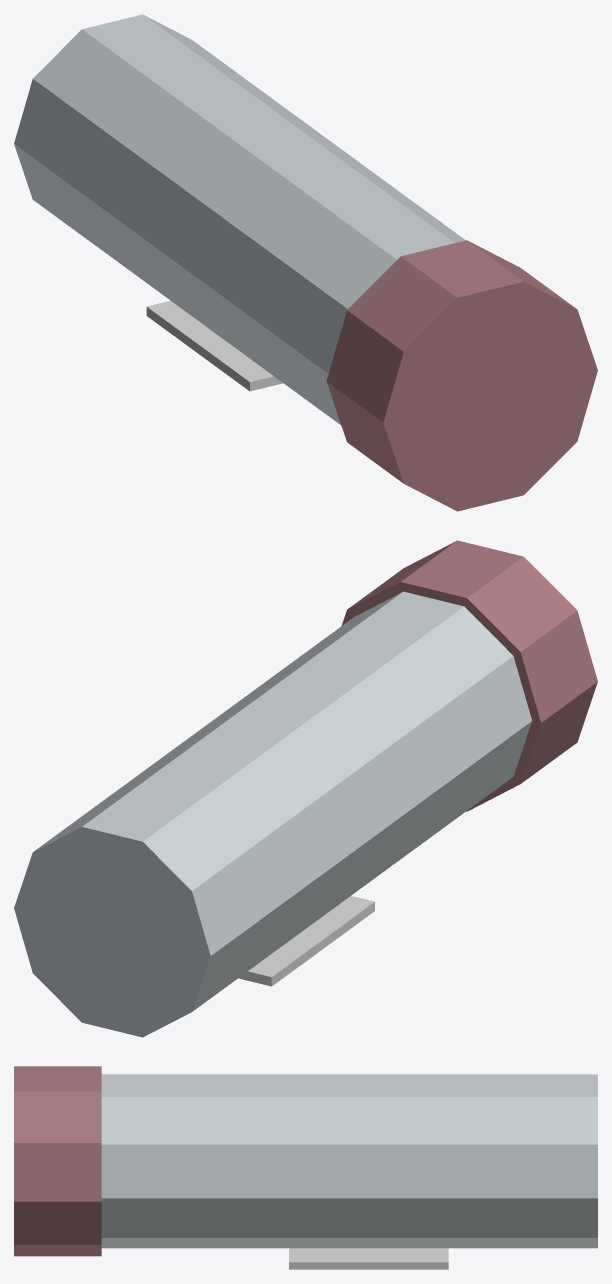
The model's file is collection-tube-low.glb.
3 renders of one model, top to bottom at view 1: azimuth 30°, elevation 25°; view 2: azimuth 150°, elevation 25°; view 3: azimuth 270°, elevation 25°, orthographic. The views are drawn at different scales.
Visible parts, largest first — view 1: collection_tube, tube_cap, tube_label; view 2: collection_tube, tube_cap, tube_label; view 3: collection_tube, tube_cap, tube_label.
Part boxes in pixels (bbox=[...]): collection_tube: bbox=[14, 14, 465, 424]; tube_cap: bbox=[326, 240, 597, 511]; tube_label: bbox=[146, 300, 282, 391]; collection_tube: bbox=[14, 591, 531, 1037]; tube_cap: bbox=[341, 540, 597, 811]; tube_label: bbox=[238, 896, 374, 986]; collection_tube: bbox=[101, 1074, 597, 1248]; tube_cap: bbox=[14, 1066, 101, 1256]; tube_label: bbox=[289, 1248, 448, 1269].
Size of the model in its own units: 0.48 by 0.4633 by 1.46.
